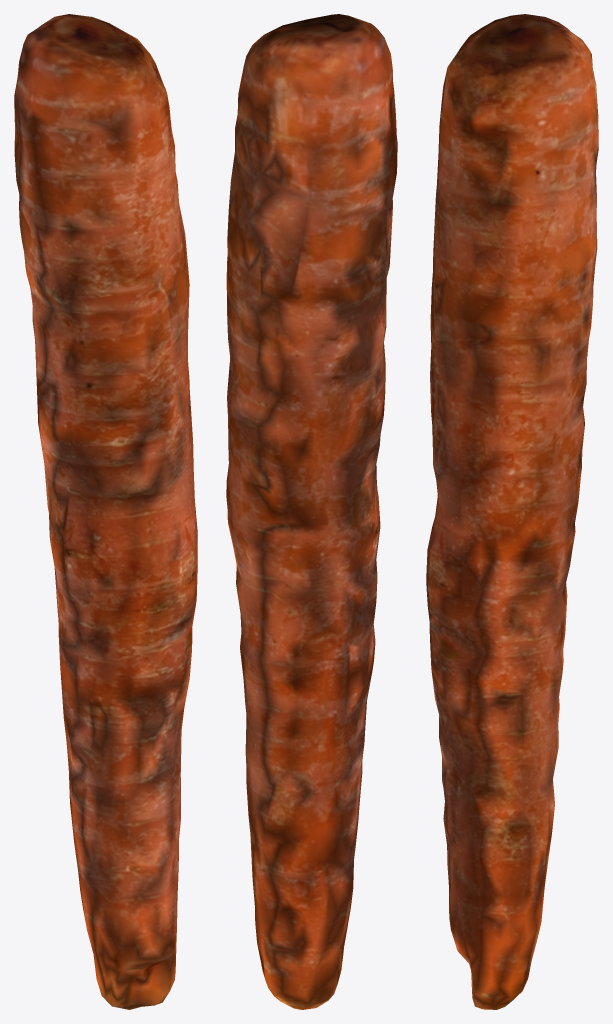
Rendered from carrot.obj.
3 views of the same model, side by side, from view 1: azimuth 30°, elevation 25°; view 2: azimuth 150°, elevation 25°; view 3: azimuth 270°, elevation 25° (orthographic). The views are drawn at different scales.
Parts seen in each view (by area): view 1: carrot; view 2: carrot; view 3: carrot.
Part boxes in pixels (bbox=[...]): carrot: bbox=[14, 14, 197, 1009]; carrot: bbox=[226, 14, 397, 1009]; carrot: bbox=[426, 14, 598, 1009].
Bounding box in the file's own units: 0.3416 × 2.09 × 0.3405.
1 material, 1 textured.
